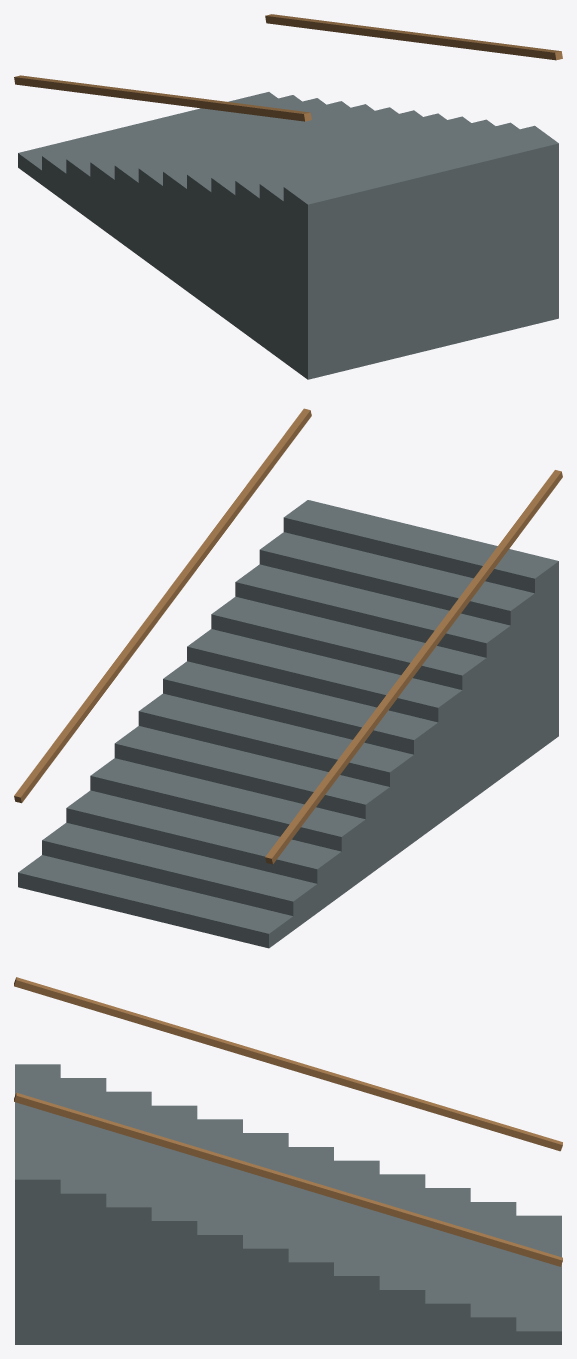
Rendered from stairs.lod1.glb.
3 views of the same model, one above another, from view 1: azimuth 30°, elevation 25°; view 2: azimuth 150°, elevation 25°; view 3: azimuth 270°, elevation 25° (orthographic). The views are drawn at different scales.
Parts seen in each view (by area): view 1: structure; view 2: structure; view 3: structure.
Boxes of the visible parts, x1,y1,x2,y2 form: structure: (14, 14, 562, 379); structure: (14, 408, 562, 948); structure: (14, 977, 562, 1344).
Bounding box in the file's own units: 3.08 × 3.04 × 6.03.
